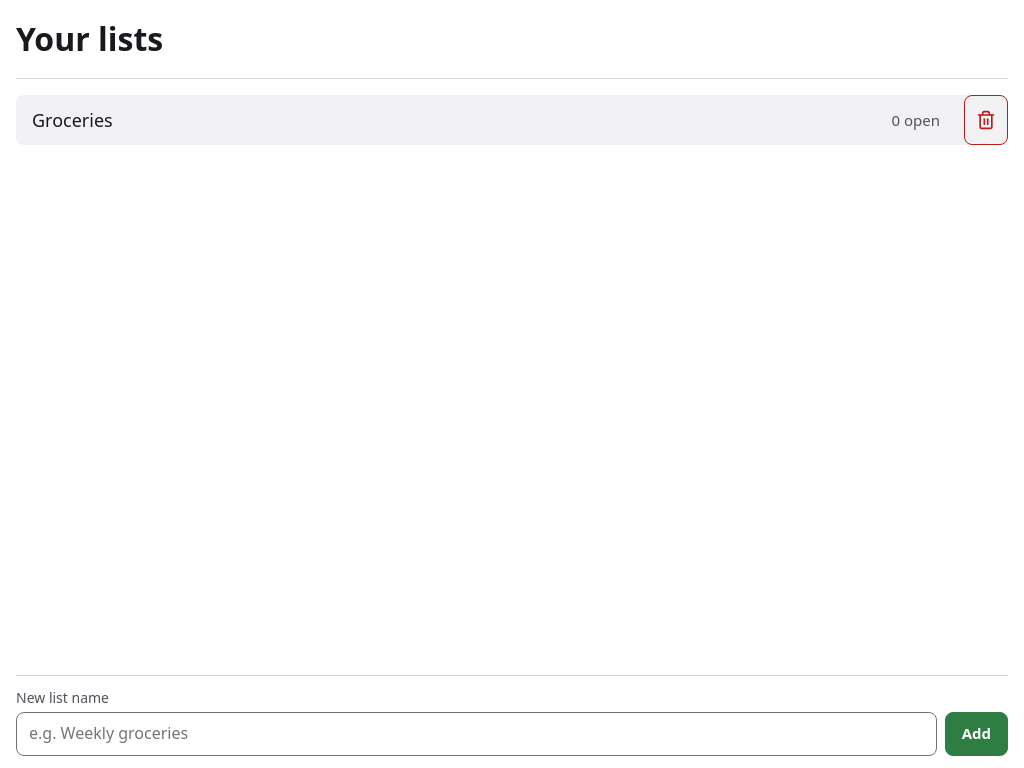
Test: ListsOverview › removes a list immediately on delete and shows an undo snackbar
Expected: the text "Groceries" is shown, [32,107,113,134]
Click the button named "Delete list Groceries" at {"x": 986, "y": 120}, box [964,95,1008,146]
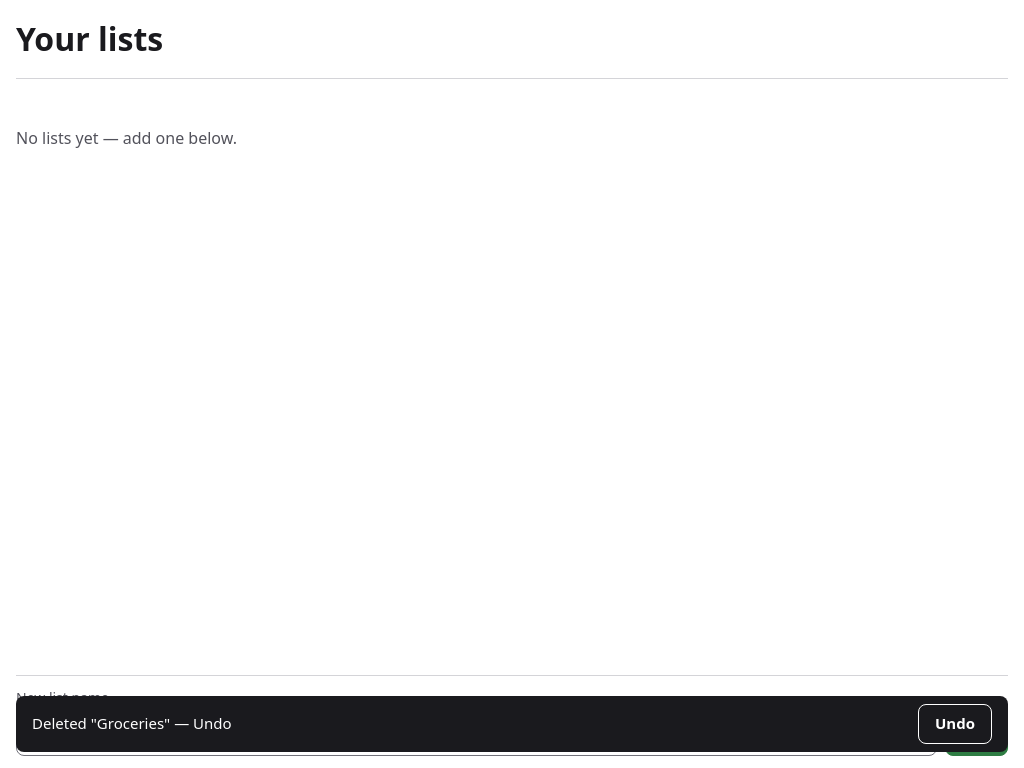
Expected: the text "Deleted \"Groceries\" — Undo" is shown, [32,713,232,735]
